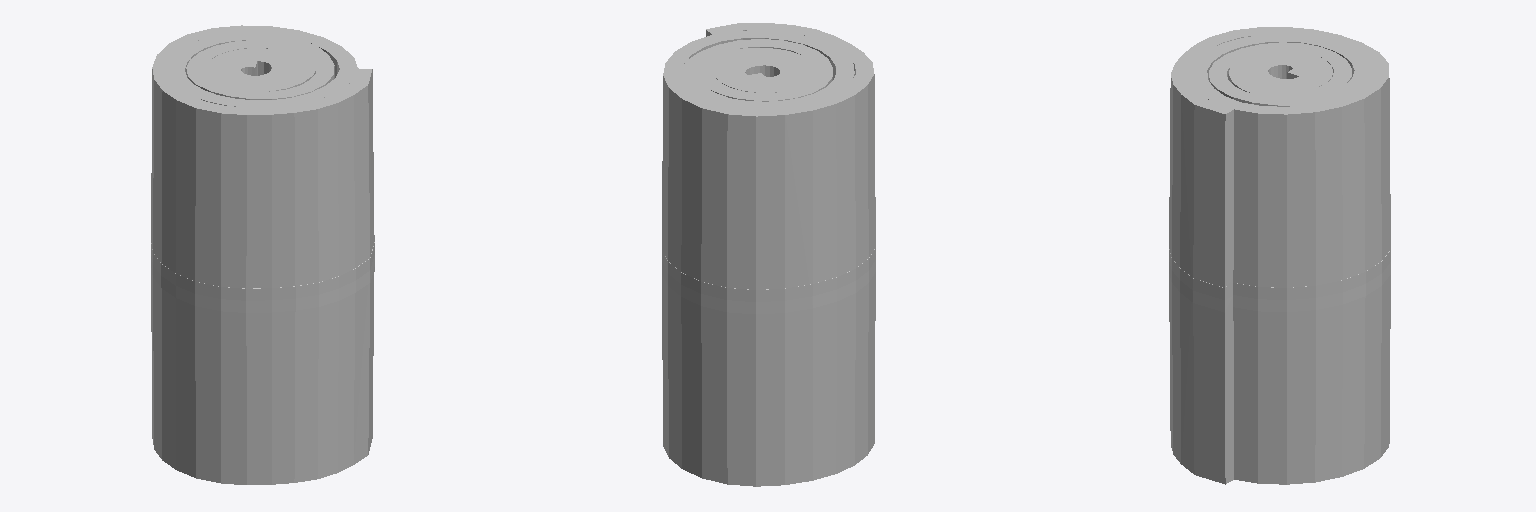
File: bandages.obj
3 views of the same model, side by side, from view 1: azimuth 30°, elevation 25°; view 2: azimuth 150°, elevation 25°; view 3: azimuth 270°, elevation 25° (orthographic).
Visible parts, largest first — view 1: Cercle; view 2: Cercle; view 3: Cercle.
Part boxes in pixels (x1,y1,x2,y2): Cercle: (151,25,374,484); Cercle: (662,23,875,486); Cercle: (1169,27,1390,484).
Size of the model in its own units: 0.0172 by 0.0333 by 0.0181.